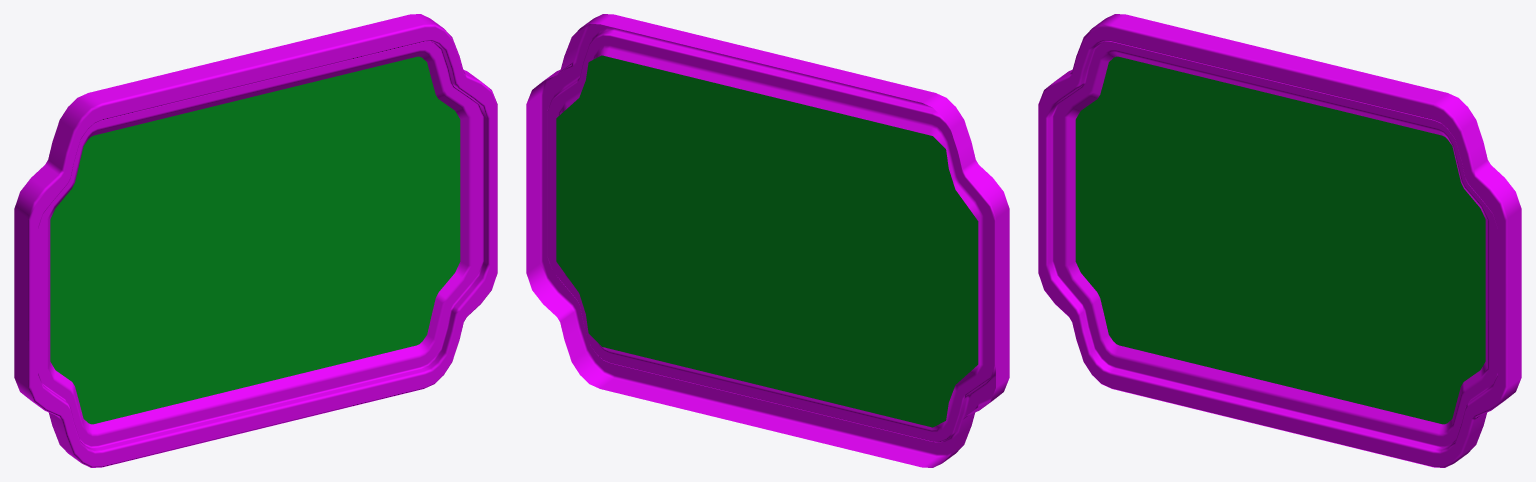
Rendered from Fenetre_Simple_4x4x0_207.FBX.
The picture shows the model from 3 angles, left to right: view 1: azimuth 30°, elevation 25°; view 2: azimuth 150°, elevation 25°; view 3: azimuth 330°, elevation 25°; orthographic projection.
Parts seen in each view (by area): view 1: Fenetre_Simple_4x4x0_207; view 2: Fenetre_Simple_4x4x0_207; view 3: Fenetre_Simple_4x4x0_207.
Boxes of the visible parts, x1,y1,x2,y2 form: Fenetre_Simple_4x4x0_207: [14, 14, 497, 467]; Fenetre_Simple_4x4x0_207: [526, 14, 1009, 467]; Fenetre_Simple_4x4x0_207: [1038, 14, 1521, 467].
Bounding box in the file's own units: 291 × 216 × 16.08.
